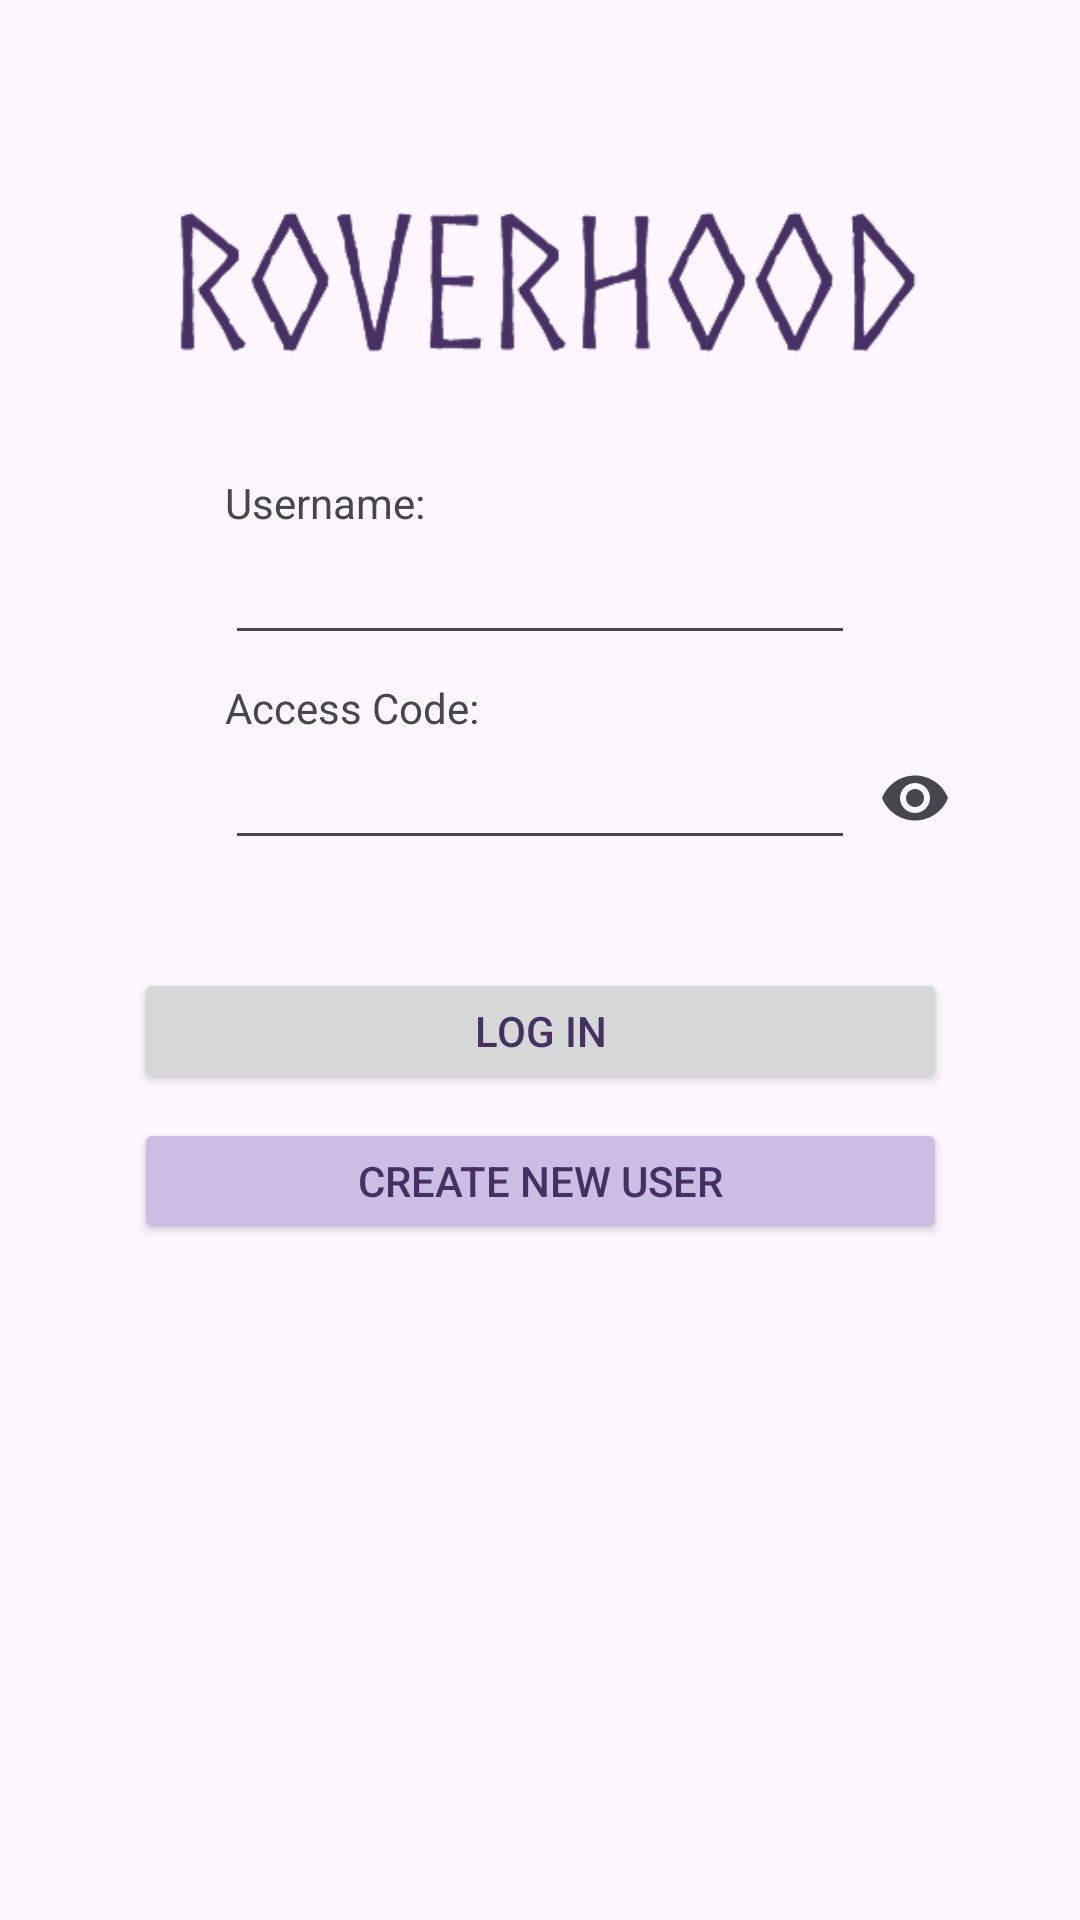

Icons on this 1080w x 1920h Android screen, each with its box as (x1, y1, x2, y2):
Show access code: (882, 775, 948, 821)
